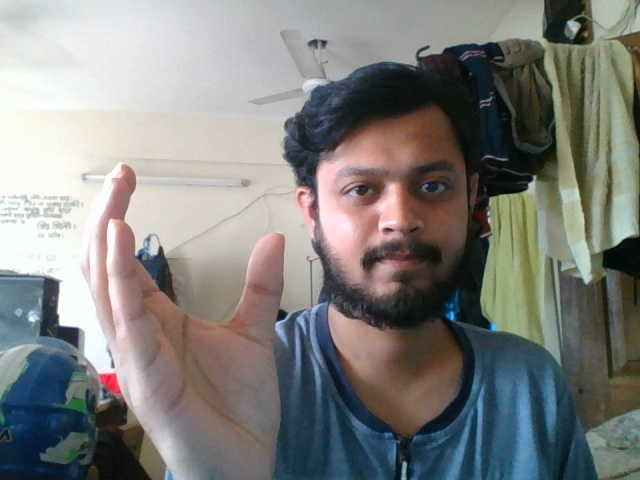o: (78, 158, 297, 480)
